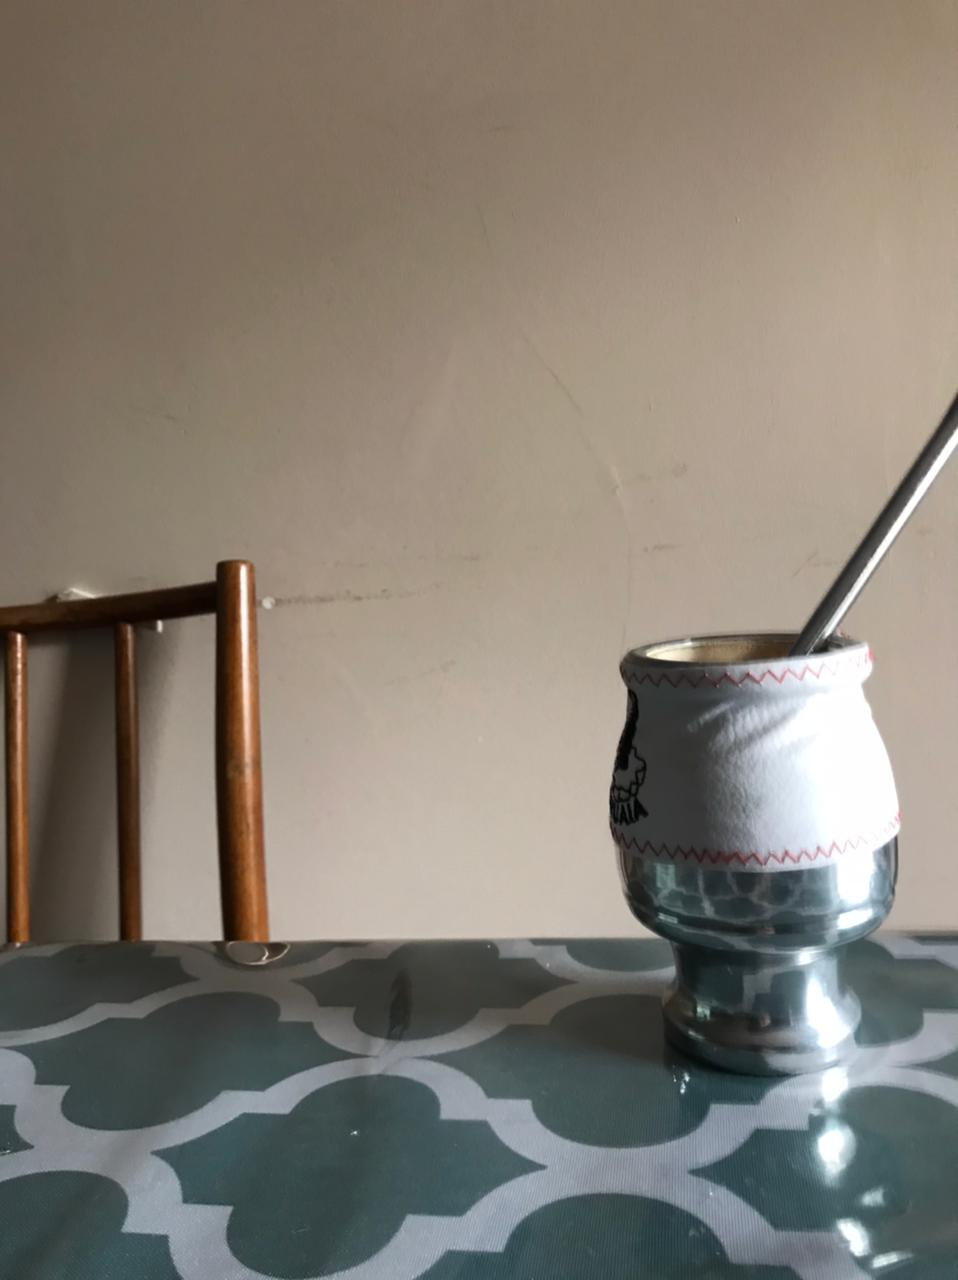mate: (596, 391, 958, 1082)
